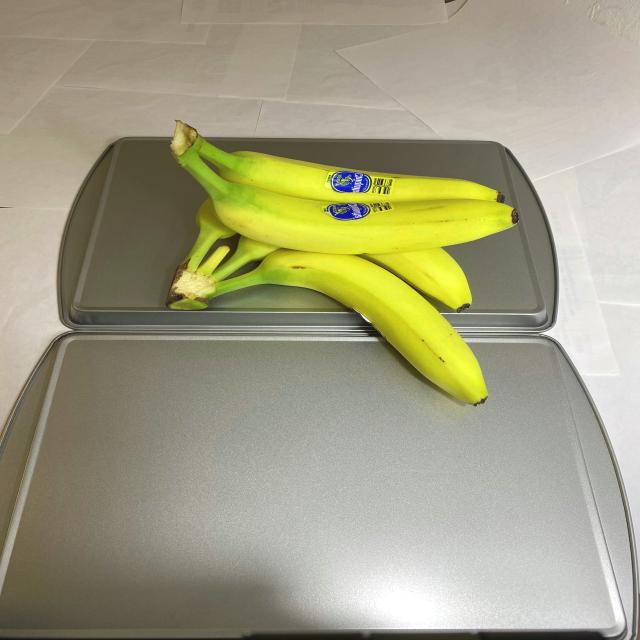banana: (158, 117, 522, 413)
